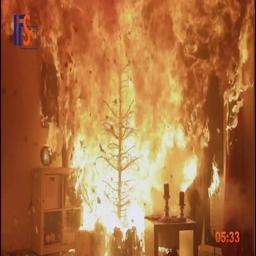fire: (1, 0, 256, 220)
